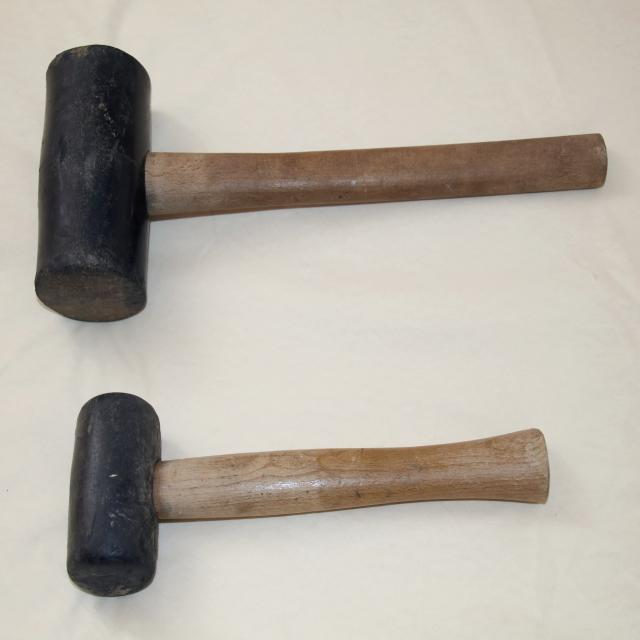hammer: (28, 39, 610, 330), (62, 384, 555, 602)
